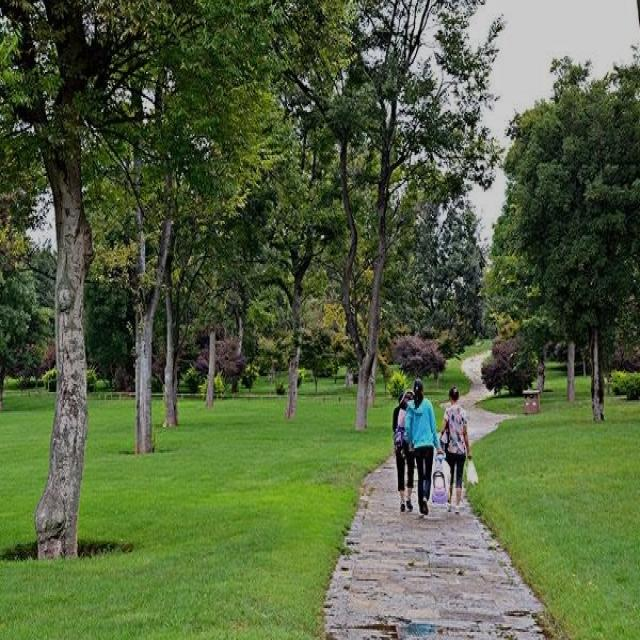non-fight: (403, 379, 439, 518), (439, 388, 472, 510)
